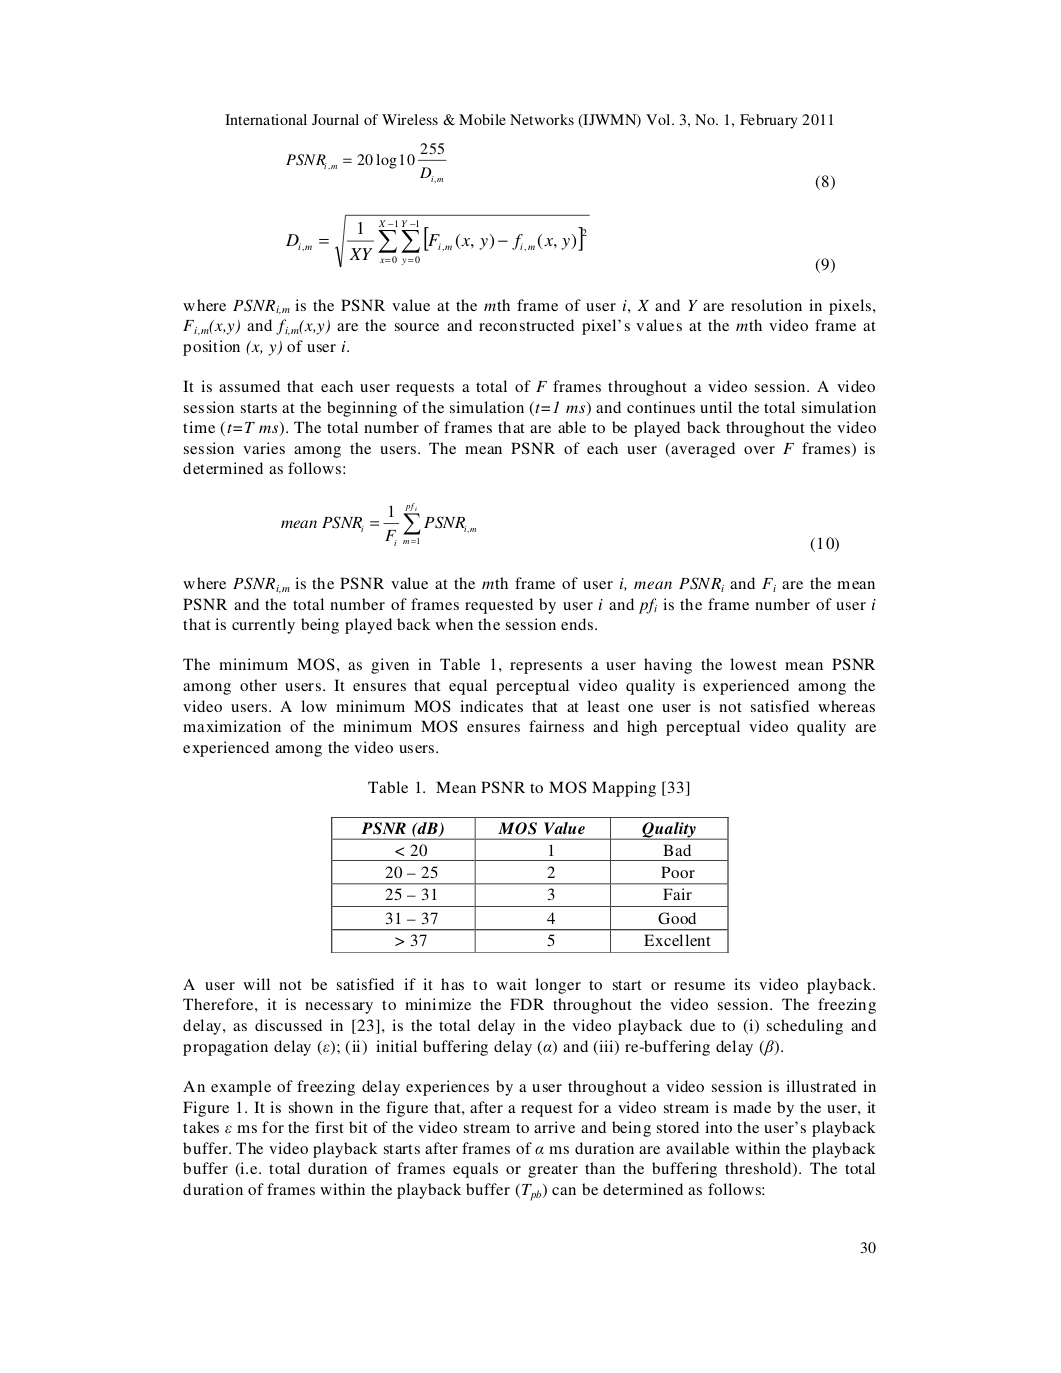Table: (331, 815, 728, 953)
formula: (286, 213, 834, 273), (281, 502, 838, 552), (286, 142, 834, 189)
